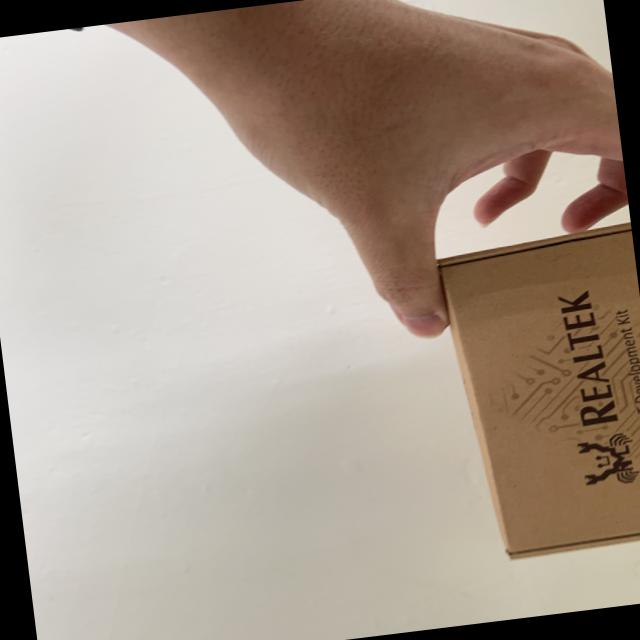box: (397, 206, 640, 611)
